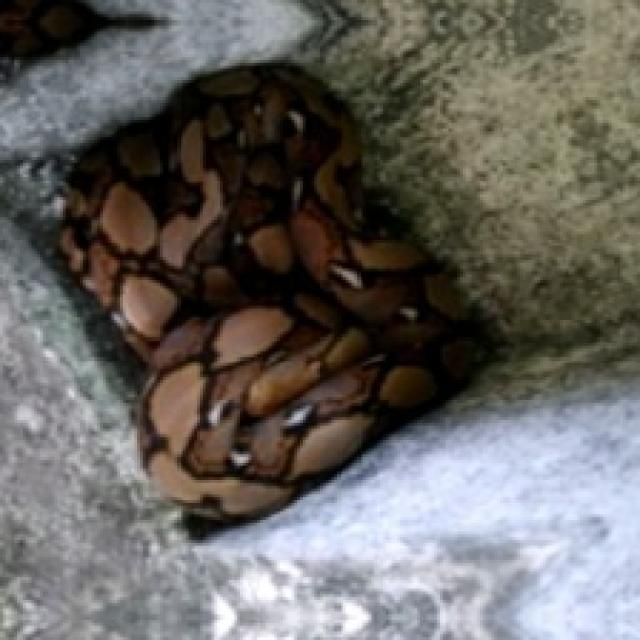reticulated python: (60, 63, 471, 517)
